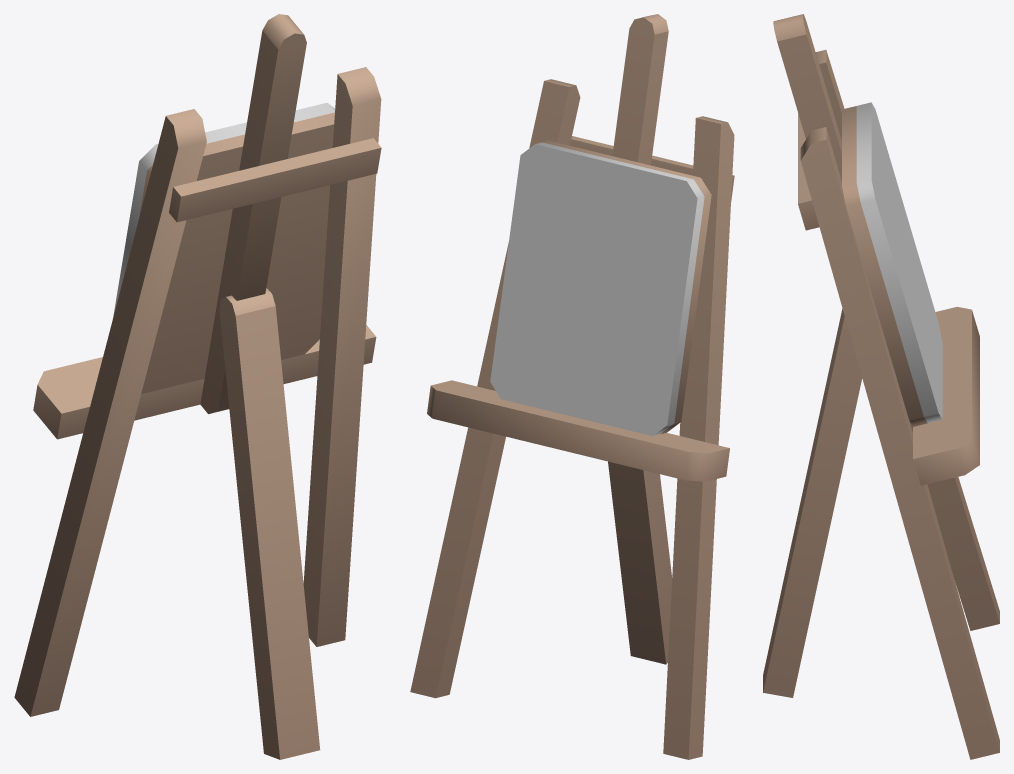
File: easel.glb
3 views of the same model, side by side, from view 1: azimuth 30°, elevation 25°; view 2: azimuth 150°, elevation 25°; view 3: azimuth 270°, elevation 25° (orthographic). The views are drawn at different scales.
Visible parts, largest first — view 1: easel; view 2: easel; view 3: easel.
Part boxes in pixels (<box>): easel: <box>14,14,381,759</box>; easel: <box>410,14,734,759</box>; easel: <box>763,14,999,759</box>.
Bounding box in the file's own units: 0.55 × 1.22 × 0.3883.
